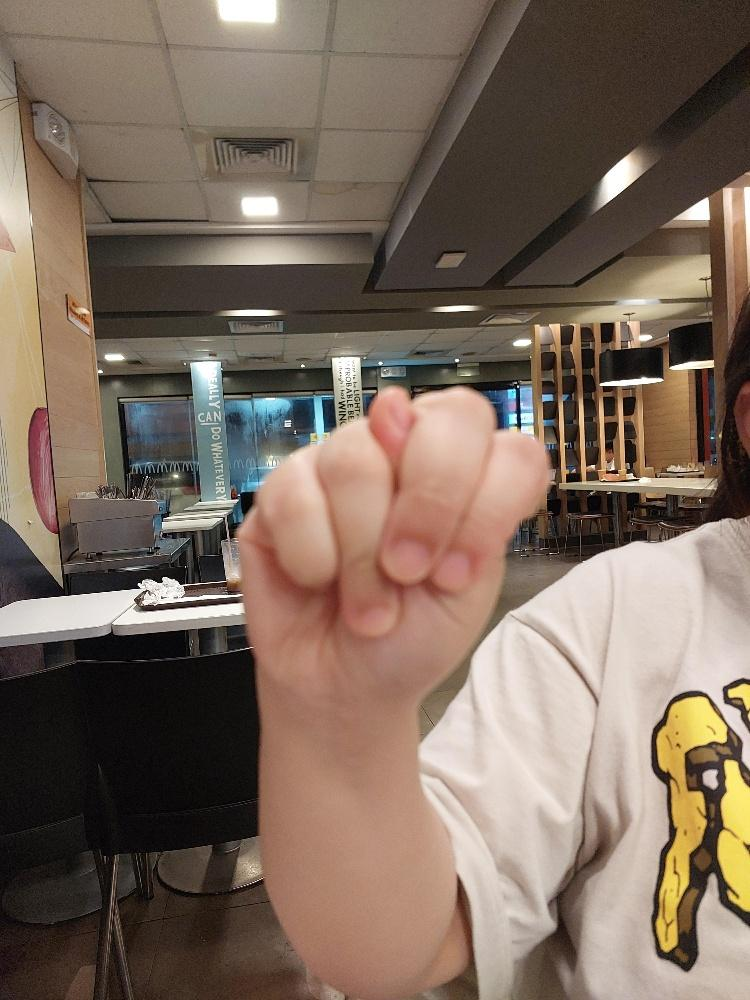n: (234, 383, 551, 707)
